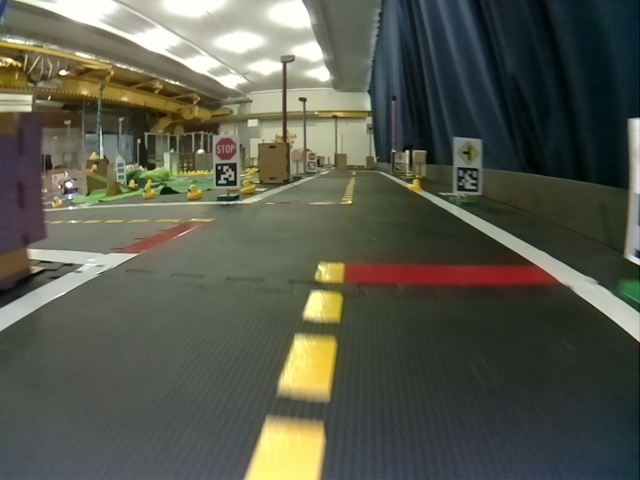Duckie: (187, 186, 202, 199), (241, 184, 255, 194), (408, 180, 416, 191)
Intersection sign: (457, 139, 481, 163)
QR code: (457, 168, 482, 194), (213, 163, 238, 187)
Stop sign: (213, 136, 237, 161)
